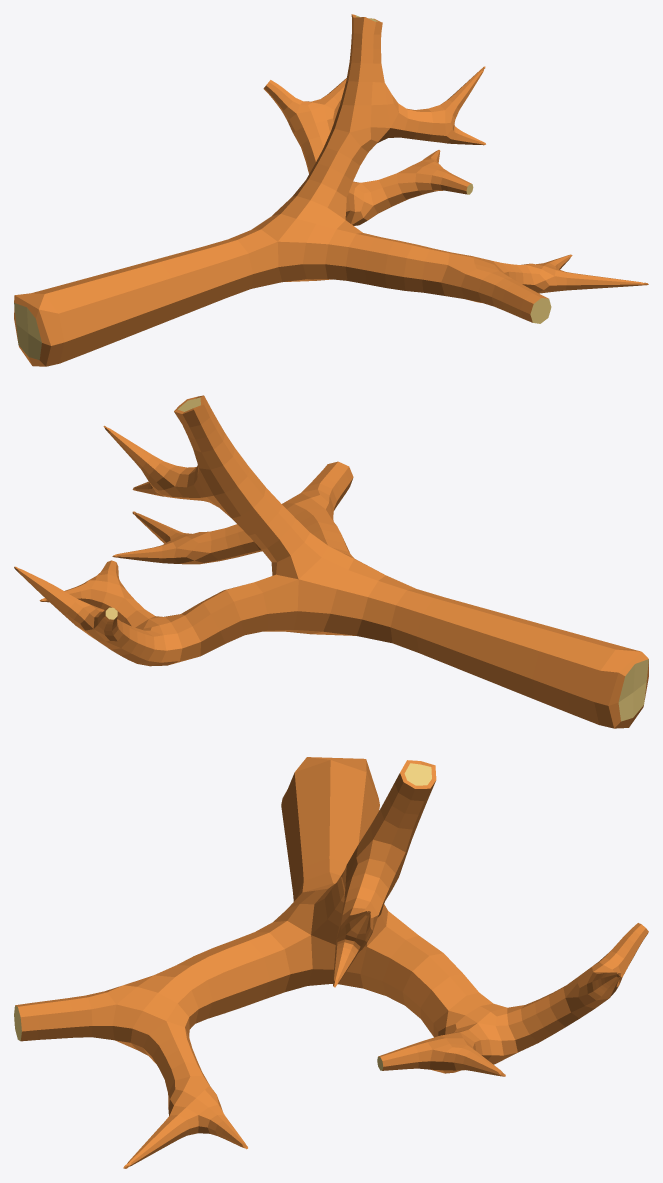
File: felled tree3.fbx
The picture shows the model from 3 angles, top to bottom: view 1: azimuth 30°, elevation 25°; view 2: azimuth 150°, elevation 25°; view 3: azimuth 270°, elevation 25°; orthographic projection. The views are drawn at different scales.
Visible parts, largest first — view 1: felled tree 3; view 2: felled tree 3; view 3: felled tree 3.
Boxes of the visible parts, x1=… form: felled tree 3: x1=14, y1=14, x2=648, y2=366; felled tree 3: x1=14, y1=395, x2=648, y2=728; felled tree 3: x1=14, y1=757, x2=648, y2=1168.
Size of the model in its own units: 438 by 184 by 342.
